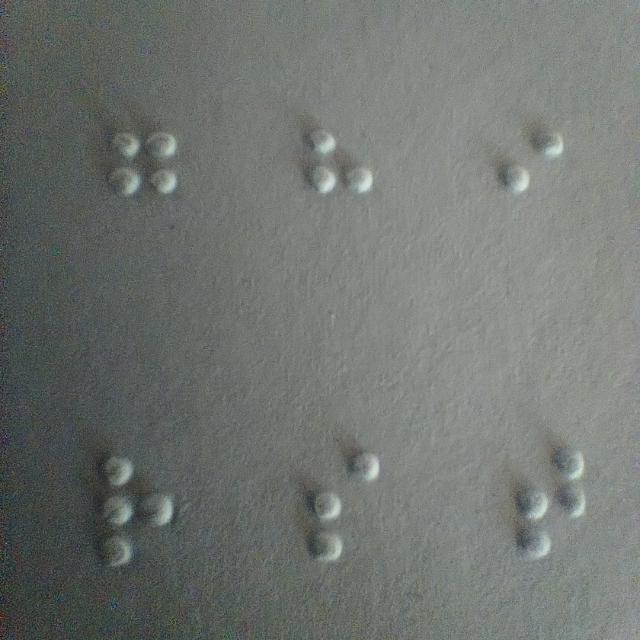letter_g: (108, 134, 180, 236)
letter_h: (306, 132, 373, 235)
letter_i: (501, 131, 567, 234)
letter_r: (98, 455, 175, 570)
letter_s: (312, 454, 381, 562)
letter_t: (517, 452, 586, 560)
